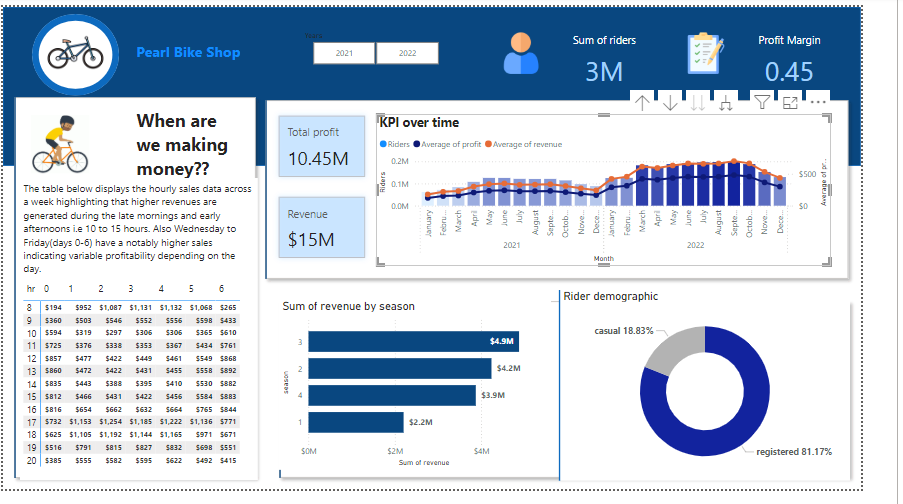

What the dashboard file says about the page in this screenshot:
{"tool":"powerbi","page":{"name":"Page 1","canvas":[1280,720],"ordinal":0},"visuals":[{"type":"shape","box":[0,0,1280,236.9],"z":0},{"type":"cardVisual","fields":{"Data":["Min(Query1.weekday)"]},"box":[0,118.5,394.9,602.2],"z":1000},{"type":"cardVisual","fields":{"Data":["Min(Query1.weekday)"]},"box":[374.6,122.4,904.5,300],"z":2000},{"type":"cardVisual","fields":{"Data":["Min(Query1.weekday)"]},"box":[394.9,422.8,885.1,297.8],"z":3000},{"type":"cardVisual","fields":{"Data":["Min(Query1.weekday)"]},"box":[21.4,139.8,133.3,133.3],"z":4000},{"type":"pivotTable","fields":{"Rows":["Query1.hr"],"Values":["Avg(Query1.revenue)"],"Columns":["Query1.weekday"]},"box":[25.4,406,355.2,300],"z":5000},{"type":"textbox","box":[194.1,144.8,156.3,125],"z":6000},{"type":"textbox","box":[24.7,255,355.4,151.4],"z":7000},{"type":"lineClusteredColumnComboChart","title":"KPI over time","fields":{"Y":["Sum(Query1.riders)"],"Category":["Query1.dteday.Variation.Date Hierarchy.Year","Query1.dteday.Variation.Date Hierarchy.Month","Query1.dteday.Variation.Date Hierarchy.Day"],"Y2":["Avg(Query1.profit)","Avg(Query1.revenue)"]},"box":[556.7,159.7,679.1,226.9],"z":8000},{"type":"clusteredBarChart","fields":{"Category":["Query1.season"],"Y":["Sum(Query1.revenue)"]},"box":[411.3,436,406.4,255],"z":9000},{"type":"donutChart","title":"Rider demographic","fields":{"Category":["Query1.rider_type"],"Y":["Sum(Query1.riders)"]},"box":[830.8,421.2,432.7,286.3],"z":10000},{"type":"shape","box":[806.2,422.8,49.4,284.6],"z":11000},{"type":"cardVisual","title":"KPI over time","fields":{"Data":["Sum(Query1.profit)","Sum(Query1.revenue)"]},"box":[394.9,146.4,161.2,245.1],"z":12000},{"type":"cardVisual","fields":{"Data":["Sum(Query1.riders)","Query1.Profit Margin"]},"box":[725.6,21.4,554.4,97.1],"z":13000},{"type":"shape","box":[42.8,9.9,130,121.7],"z":14000},{"type":"image","box":[60.9,18.1,93.8,100.4],"z":15000},{"type":"textbox","box":[194.1,46.1,299.4,46.1],"z":16000},{"type":"slicer","fields":{"Values":["Query1.Years"]},"box":[437.6,31.3,236.9,60.9],"z":17000}]}

Visuals, with their boxes in screenshot pixels (x1, y1, x2, y2), scaled from the page's 1280x720 canvas onto the 903x504 screenshot:
shape: [x1=0, y1=0, x2=902, y2=166]
cardVisual - Min(Query1.weekday): [x1=0, y1=83, x2=279, y2=503]
cardVisual - Min(Query1.weekday): [x1=264, y1=86, x2=902, y2=296]
cardVisual - Min(Query1.weekday): [x1=279, y1=296, x2=902, y2=503]
cardVisual - Min(Query1.weekday): [x1=15, y1=98, x2=109, y2=191]
pivotTable - Query1.hr x Avg(Query1.revenue): [x1=18, y1=284, x2=269, y2=494]
textbox: [x1=137, y1=101, x2=247, y2=189]
textbox: [x1=17, y1=178, x2=268, y2=284]
"KPI over time" lineClusteredColumnComboChart: [x1=393, y1=112, x2=872, y2=271]
clusteredBarChart - Query1.season x Sum(Query1.revenue): [x1=290, y1=305, x2=577, y2=484]
"Rider demographic" donutChart: [x1=586, y1=295, x2=891, y2=495]
shape: [x1=569, y1=296, x2=604, y2=495]
"KPI over time" cardVisual: [x1=279, y1=102, x2=392, y2=274]
cardVisual - Sum(Query1.riders) x Query1.Profit Margin: [x1=512, y1=15, x2=902, y2=83]
shape: [x1=30, y1=7, x2=122, y2=92]
image: [x1=43, y1=13, x2=109, y2=83]
textbox: [x1=137, y1=32, x2=348, y2=65]
slicer - Query1.Years: [x1=309, y1=22, x2=476, y2=65]
